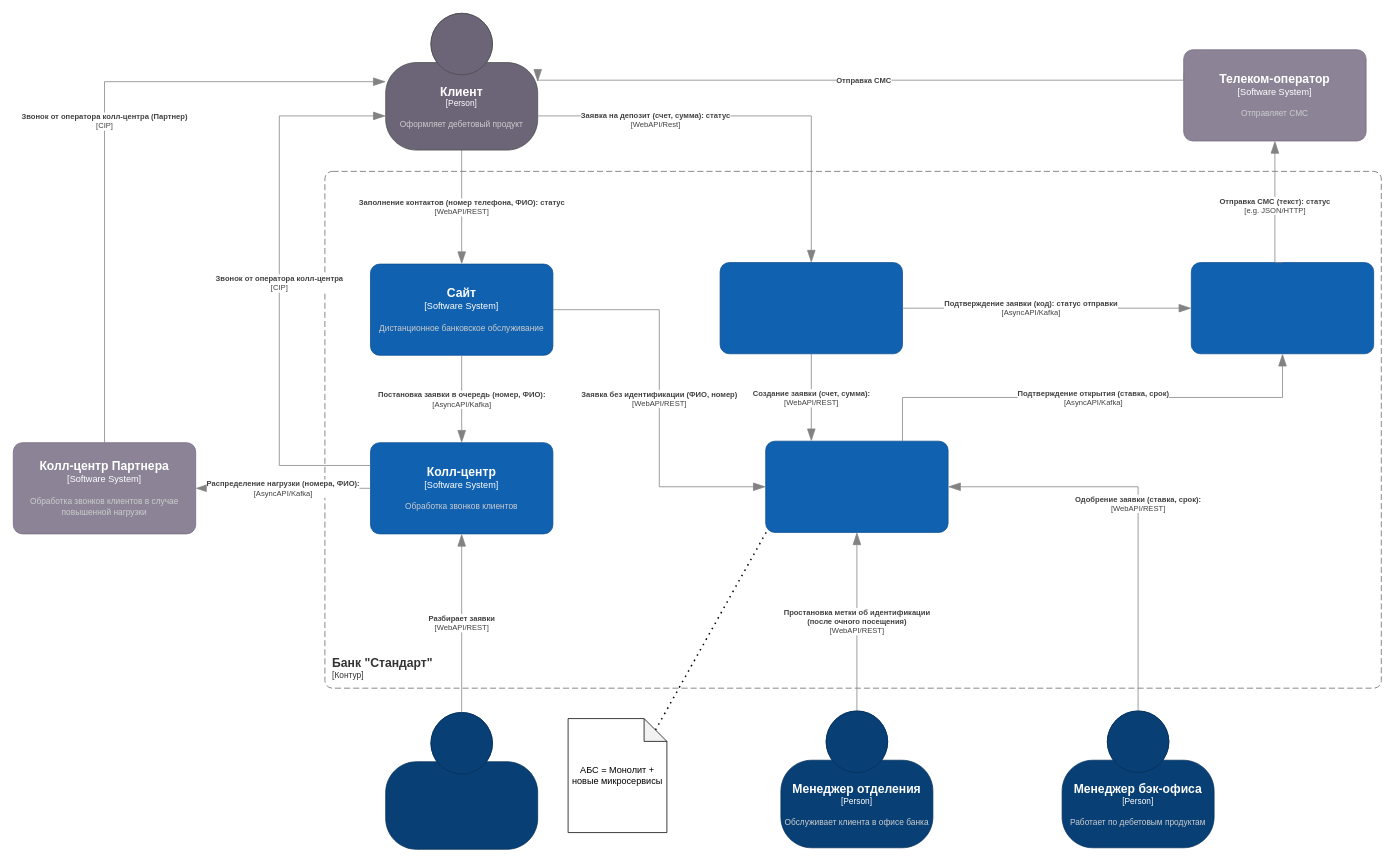
This 1395x863 diagram has some shape labels left out. Here are the shapes that lost their labels. From the top down, the centre of each, then its label:
At [810,308]: "Интернет-Банк [Software System] Дистанционное банковское обслуживание".
At [1282,308]: "СМС-шлюз [Software System] Управление потоком уведомлений через СМС-канал".
At [856,486]: "АБС [Software System] Автоматизированная банковская система".
At [461,780]: "Мендежер колл-центра [Person] Может предложить особые условия".
